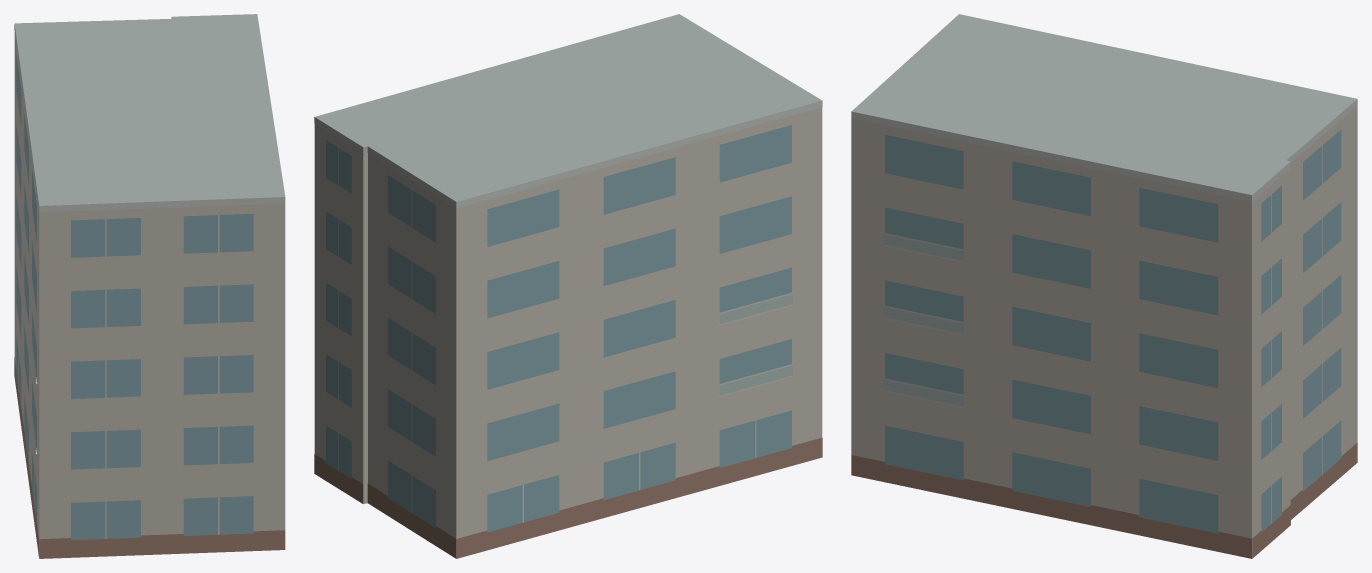
File: survey-upis-32958227.glb
3 views of the same model, side by side, from view 1: azimuth 30°, elevation 25°; view 2: azimuth 150°, elevation 25°; view 3: azimuth 270°, elevation 25° (orthographic). The views are drawn at different scales.
Parts seen in each view (by area): view 1: survey-upis-32958227.tmp; view 2: survey-upis-32958227.tmp; view 3: survey-upis-32958227.tmp.
Boxes of the visible parts, bbox=[...] form: survey-upis-32958227.tmp: bbox=[14, 14, 285, 558]; survey-upis-32958227.tmp: bbox=[314, 14, 822, 558]; survey-upis-32958227.tmp: bbox=[851, 14, 1357, 558].
Bounding box in the file's own units: 14.22 × 13.3 × 16.79.
